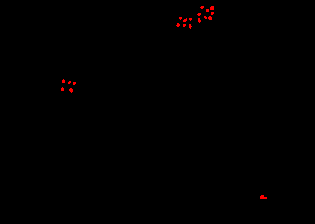Target: (260, 195, 267, 199), (69, 88, 73, 93), (210, 6, 214, 10), (208, 16, 212, 20), (183, 18, 187, 22), (176, 23, 180, 27), (198, 18, 201, 23), (189, 24, 192, 29), (200, 6, 204, 9), (197, 13, 201, 16), (62, 79, 65, 83), (61, 87, 64, 91), (206, 9, 209, 12), (211, 12, 214, 15), (204, 16, 207, 19), (179, 17, 182, 20), (189, 18, 192, 21), (183, 24, 186, 27), (68, 81, 71, 84), (73, 82, 76, 85)
